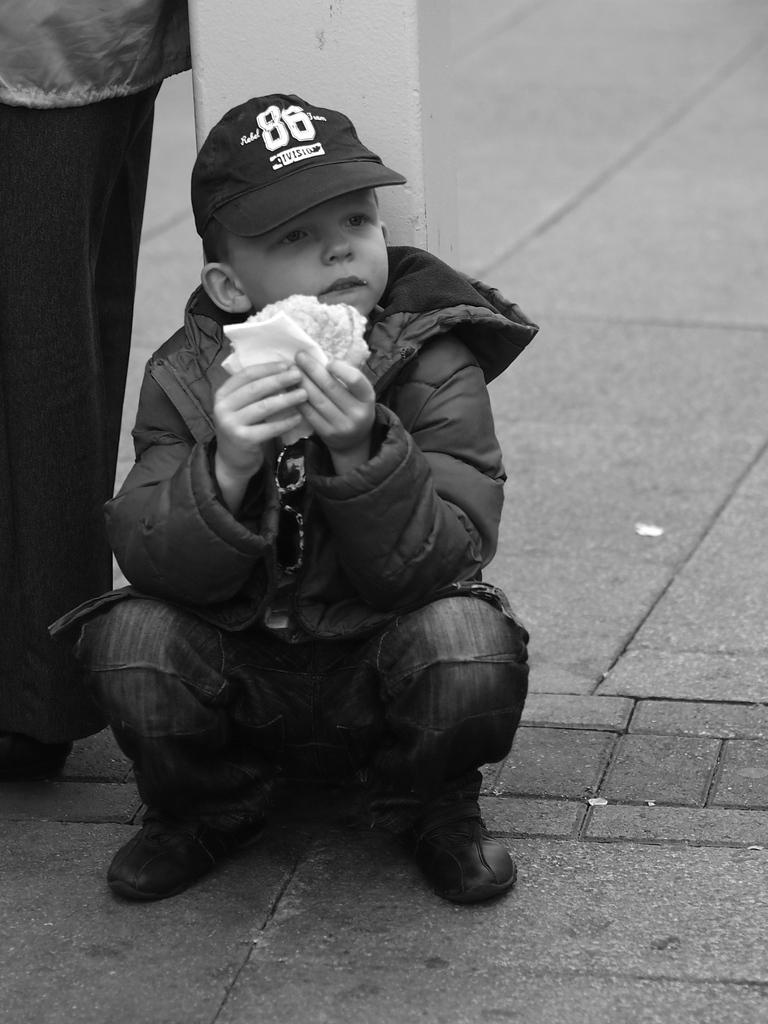Hat: (186, 88, 407, 240)
